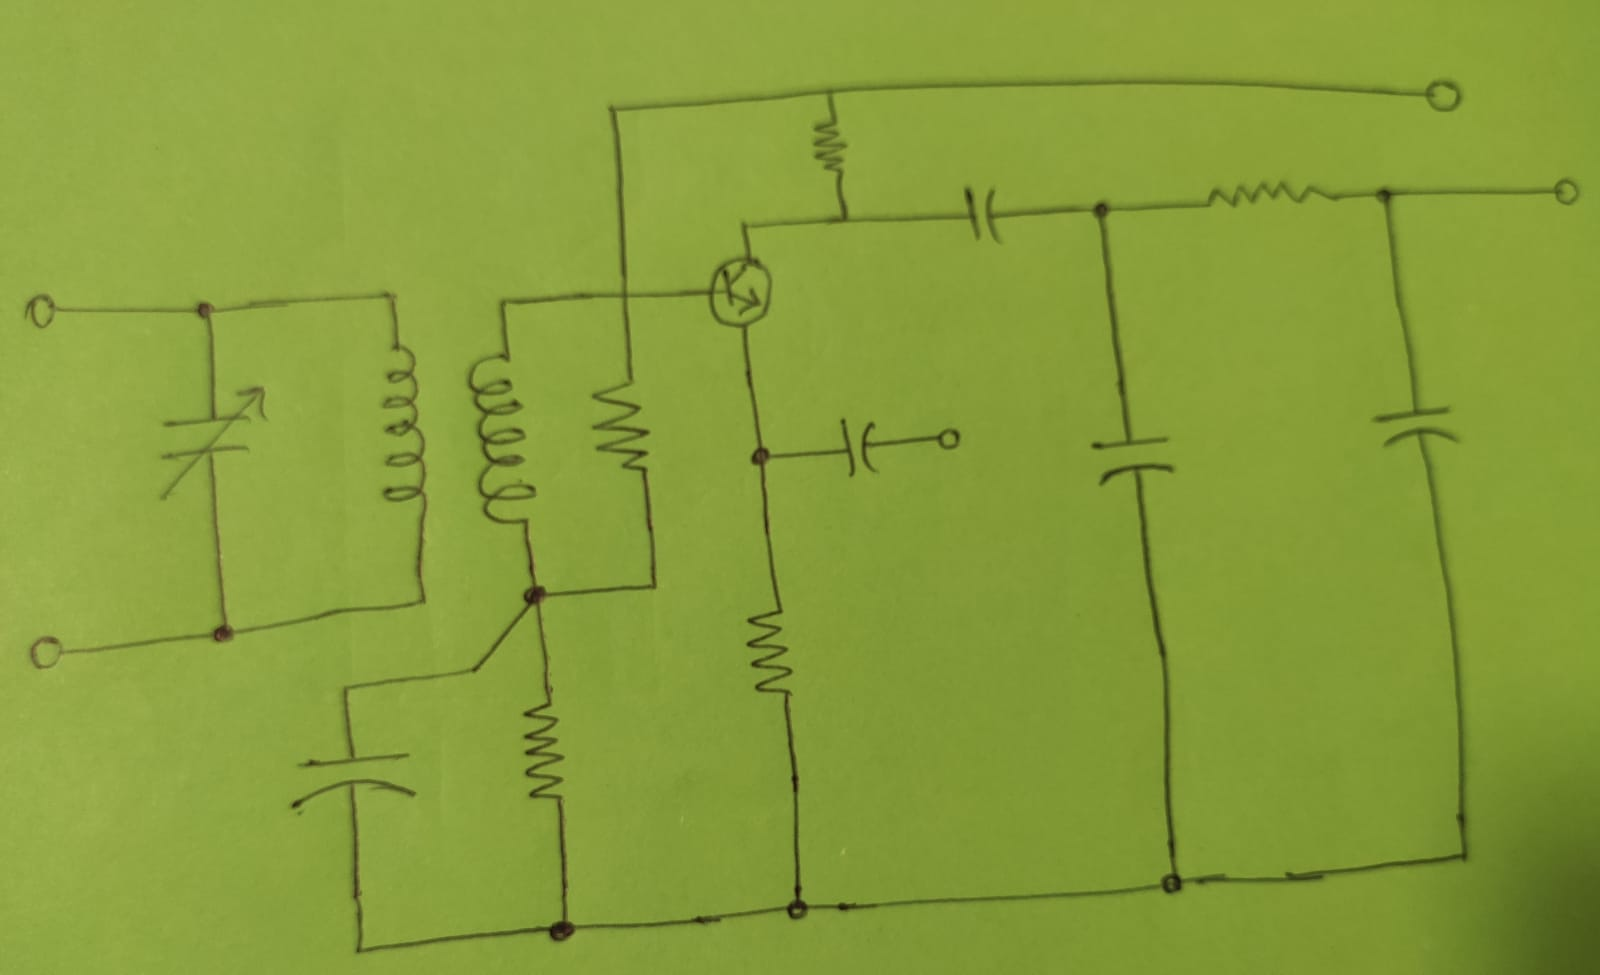capacitor.unpolarized: (160, 385, 265, 496), (294, 752, 416, 809), (1087, 435, 1173, 481), (1374, 405, 1456, 450), (838, 418, 883, 478), (965, 183, 1002, 247)
junction: (741, 443, 781, 473), (1369, 178, 1403, 213), (517, 580, 553, 609), (543, 916, 581, 943), (779, 893, 814, 921), (190, 297, 219, 326), (1157, 868, 1186, 895), (210, 616, 237, 646), (1085, 200, 1117, 223), (641, 575, 667, 600), (377, 287, 405, 310), (818, 83, 845, 106), (408, 589, 432, 612), (1454, 844, 1477, 866), (336, 679, 360, 701), (494, 294, 518, 315), (463, 660, 486, 681), (614, 286, 635, 309), (603, 104, 625, 121), (835, 211, 854, 230), (737, 219, 755, 237), (350, 944, 368, 959)
resistor: (592, 376, 653, 480), (743, 602, 795, 702), (521, 697, 568, 807), (1201, 177, 1335, 211), (809, 113, 851, 182)
terminal: (1419, 78, 1467, 115), (26, 632, 69, 668), (27, 293, 59, 331), (1546, 176, 1583, 209), (927, 426, 966, 455)
transformer: (382, 338, 535, 532)
transistor: (702, 247, 781, 335)
